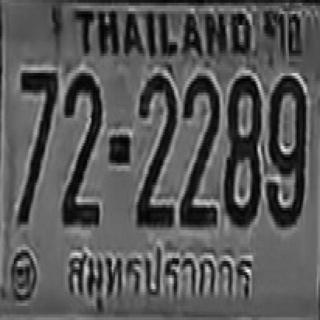N02: (60, 70, 101, 224), (136, 72, 176, 226), (179, 73, 218, 228)
N07: (18, 67, 57, 222)
N08: (224, 73, 261, 224)
N09: (266, 73, 305, 224)
P57: (62, 236, 256, 313)
